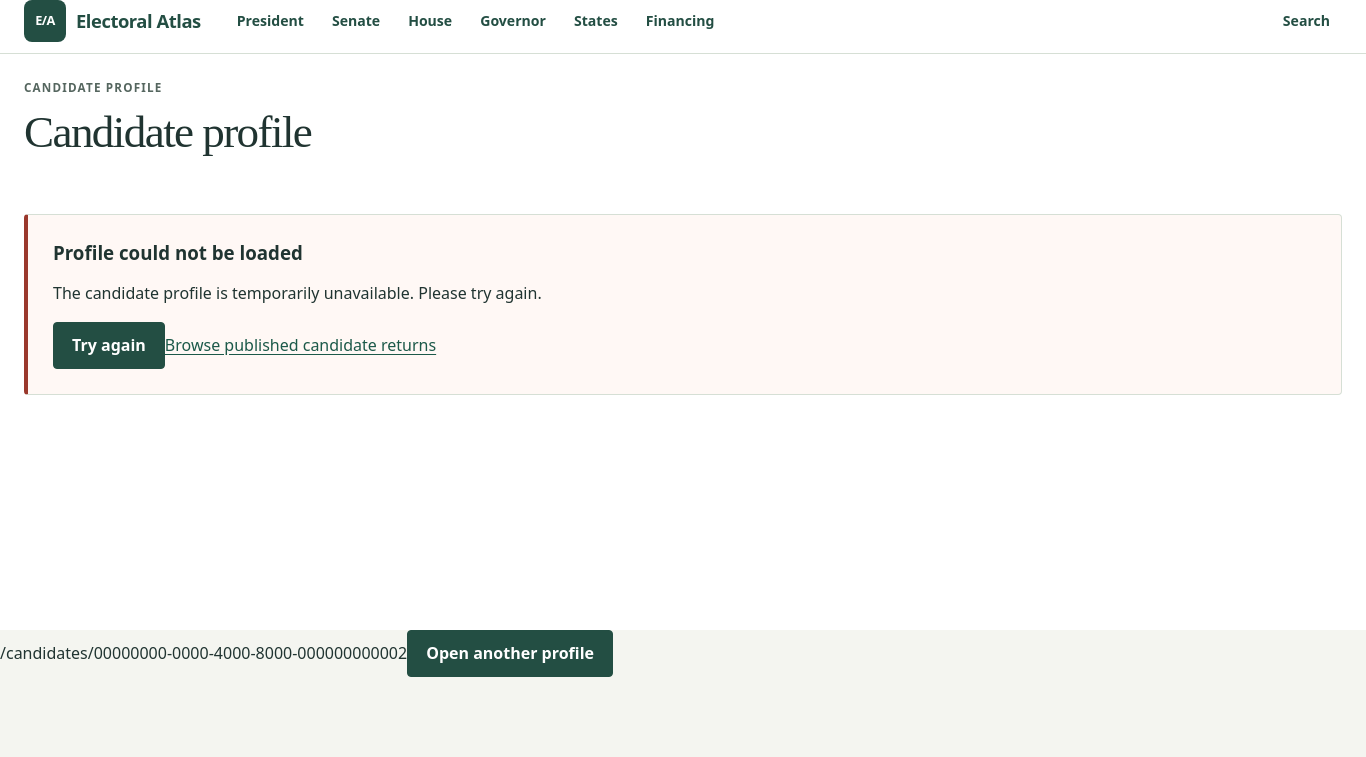
Scenario: candidate profiles › distinguishes not found from temporary failure and retries
This screenshot has width=1366, height=757.
expect the heading "Profile could not be loaded" is shown: met, box [53,240,303,265]
Click the button "Try again": click(109, 345) [53,322,165,369]
(page scrolled)
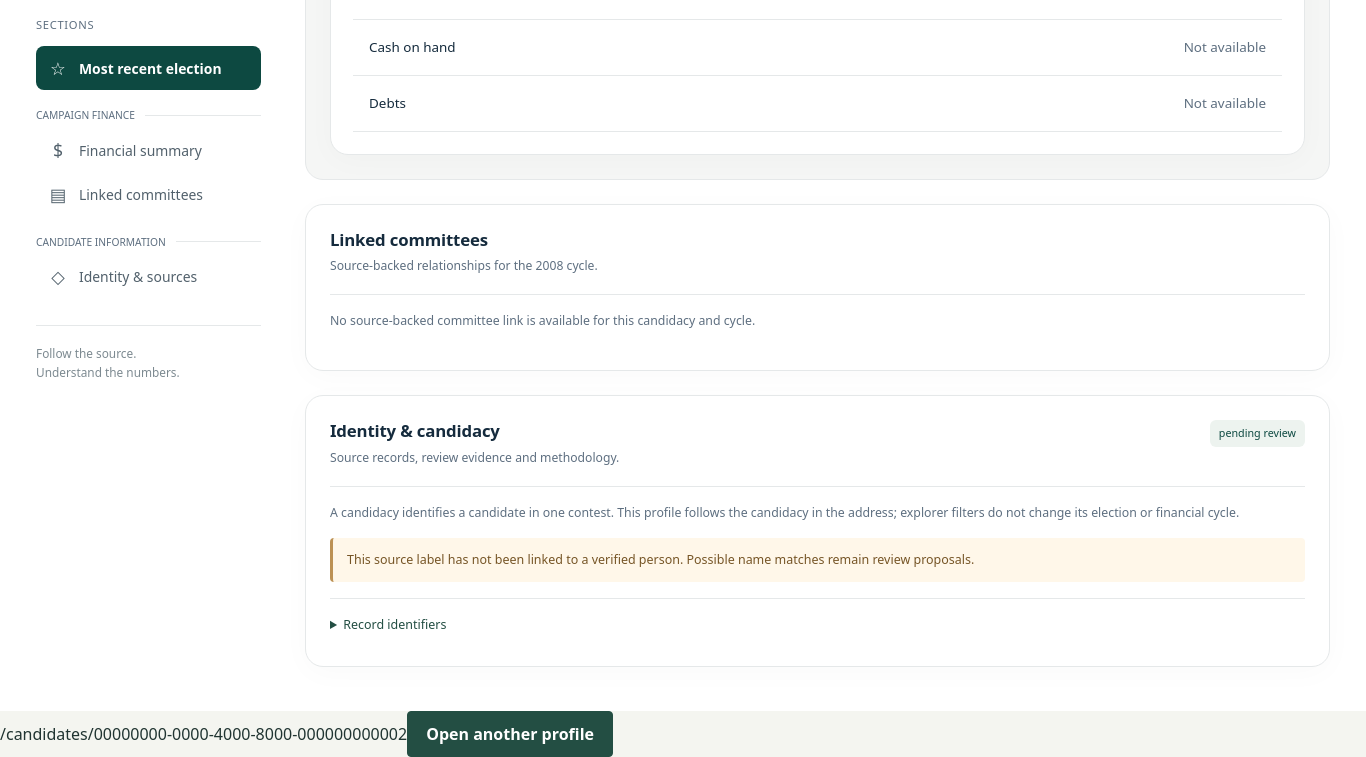
expect the heading "Identity & candidacy" is shown: met, box [330,419,500,442]
